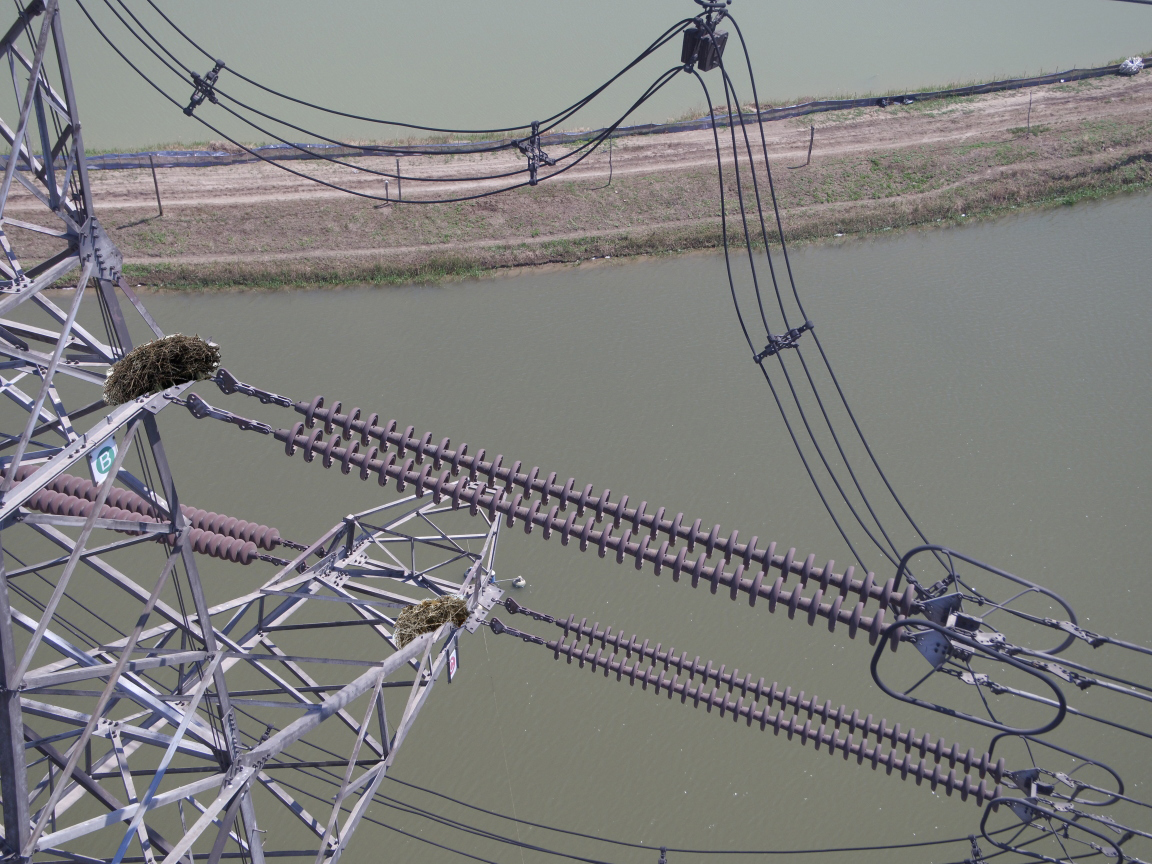nest: (101, 329, 221, 409), (391, 584, 471, 657)
